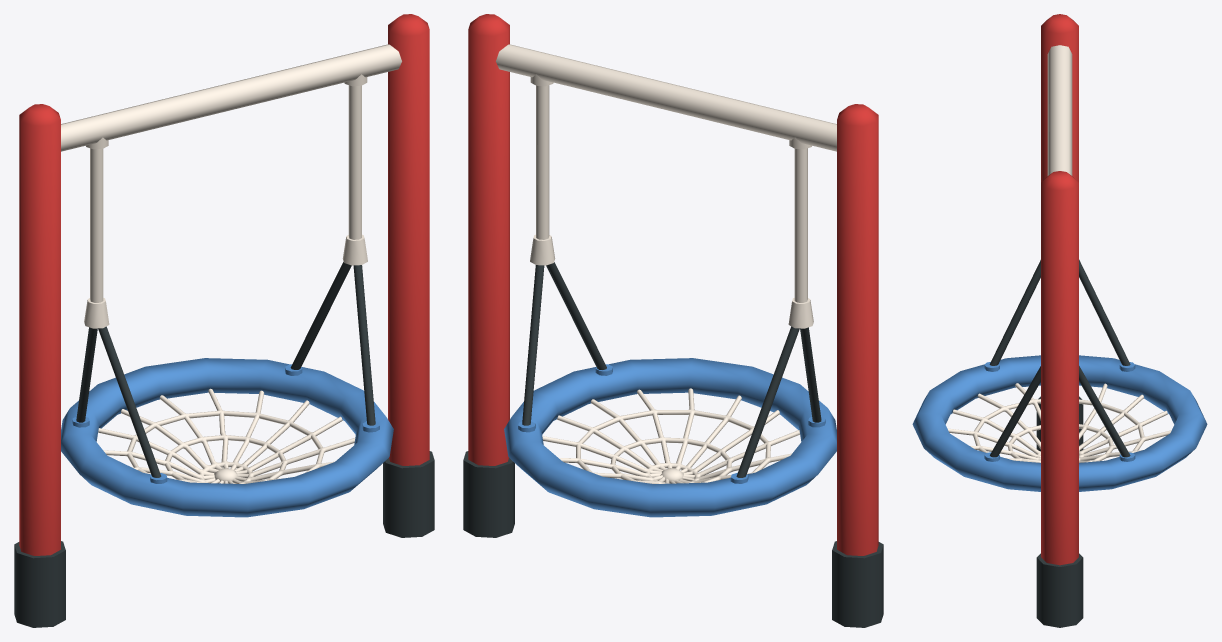
File: BasketSwing_01.fbx
3 renders of one model, left to right at view 1: azimuth 30°, elevation 25°; view 2: azimuth 150°, elevation 25°; view 3: azimuth 270°, elevation 25°, orthographic. The views are drawn at different scales.
Visible parts, largest first — view 1: BasketSwing_01, BasketSwing_01_Element; view 2: BasketSwing_01, BasketSwing_01_Element; view 3: BasketSwing_01, BasketSwing_01_Element.
Boxes of the visible parts, <box> form: BasketSwing_01: <box>14,14,434,627</box>; BasketSwing_01_Element: <box>61,74,393,517</box>; BasketSwing_01: <box>463,14,883,627</box>; BasketSwing_01_Element: <box>504,74,836,517</box>; BasketSwing_01: <box>1036,14,1083,627</box>; BasketSwing_01_Element: <box>912,259,1207,491</box>.
Bounding box in the file's own units: 1.91 × 2.24 × 1.35.
